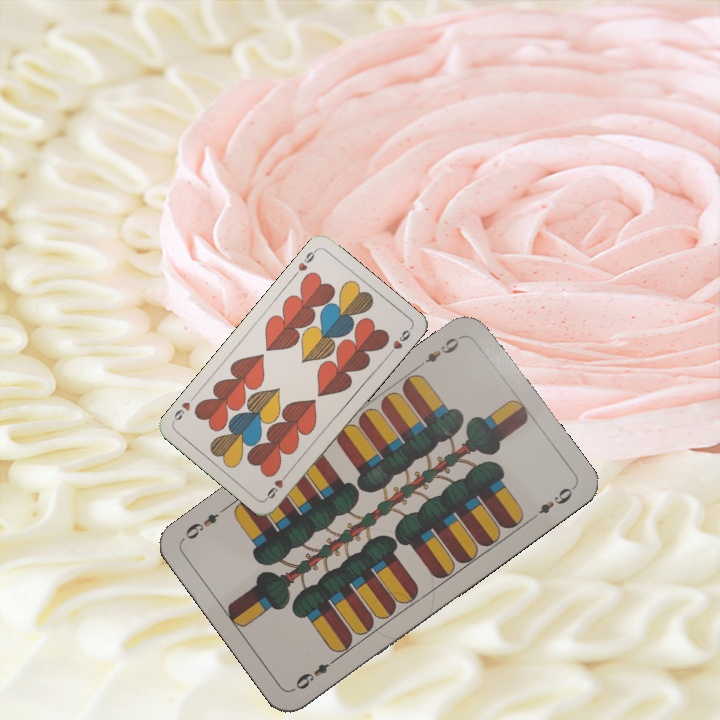E9: (413, 331, 466, 371), (291, 653, 341, 693)
H9: (289, 245, 319, 280), (262, 468, 292, 502)
